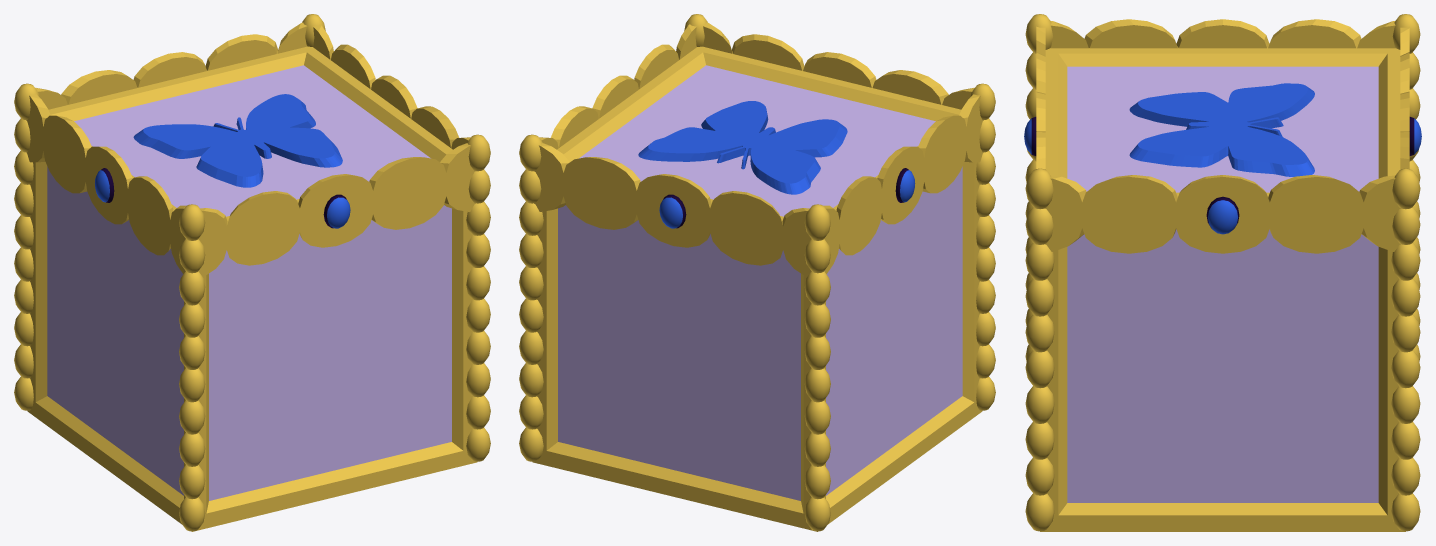
File: puzzleBlock.fbx
3 views of the same model, side by side, from view 1: azimuth 30°, elevation 25°; view 2: azimuth 150°, elevation 25°; view 3: azimuth 270°, elevation 25° (orthographic). The views are drawn at different scales.
Parts seen in each view (by area): view 1: Cube; view 2: Cube; view 3: Cube.
Part boxes in pixels (x1,y1,x2,y2): Cube: (14, 14, 490, 531); Cube: (519, 14, 995, 531); Cube: (1024, 14, 1421, 531).
Bounding box in the file's own units: 217 × 219 × 218.
